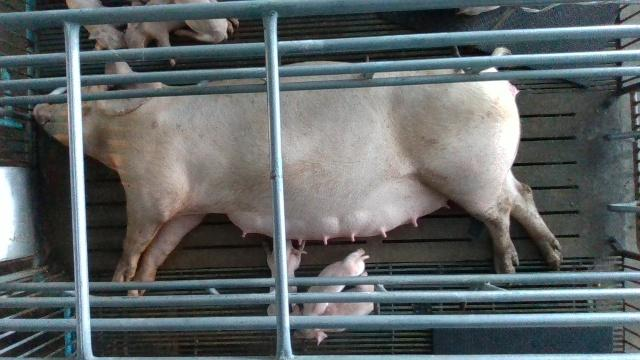piglet: (295, 274, 385, 348), (292, 247, 371, 318), (124, 0, 184, 66), (265, 237, 308, 317), (64, 0, 126, 50), (177, 0, 228, 44)
sow-sleep-lactate: (35, 46, 564, 298)
